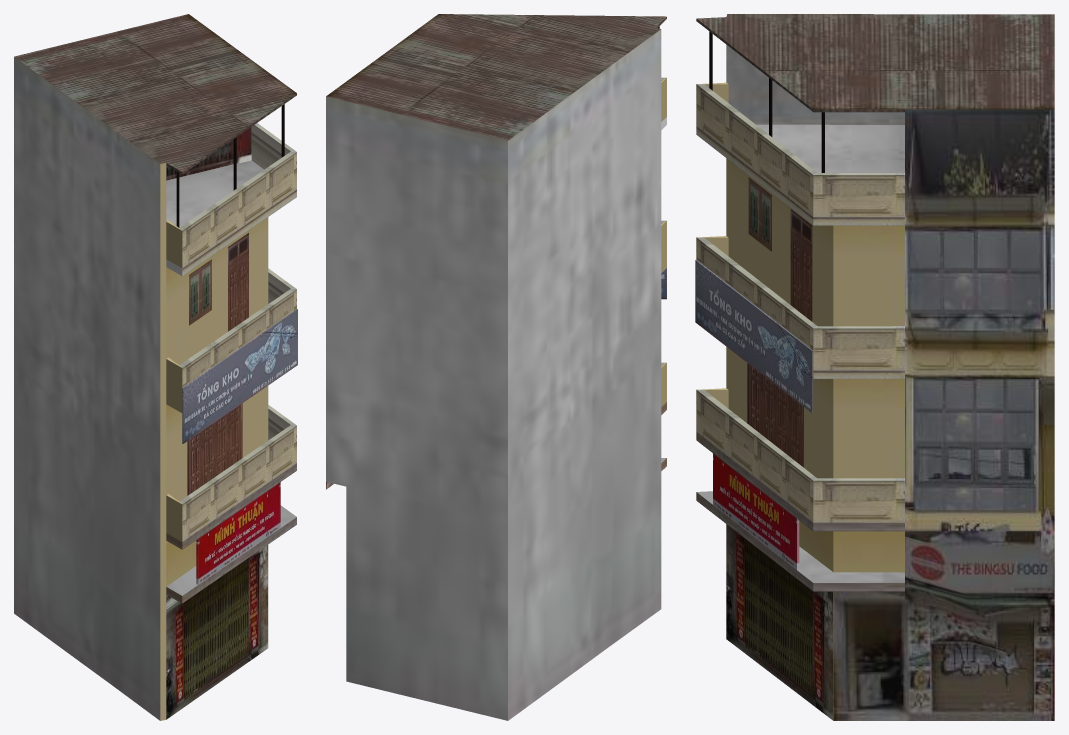
3 views of the same model, side by side, from view 1: azimuth 30°, elevation 25°; view 2: azimuth 150°, elevation 25°; view 3: azimuth 270°, elevation 25° (orthographic). The views are drawn at different scales.
Parts seen in each view (by area): view 1: HN931_TheBingsuFood; view 2: HN931_TheBingsuFood; view 3: HN931_TheBingsuFood.
Boxes of the visible parts, x1,y1,x2,y2 form: HN931_TheBingsuFood: [14, 14, 297, 720]; HN931_TheBingsuFood: [326, 14, 666, 720]; HN931_TheBingsuFood: [695, 14, 1054, 720].
Size of the model in its own units: 5.03 by 15.23 by 7.98.
Materials: 1 (1 with a texture image).
